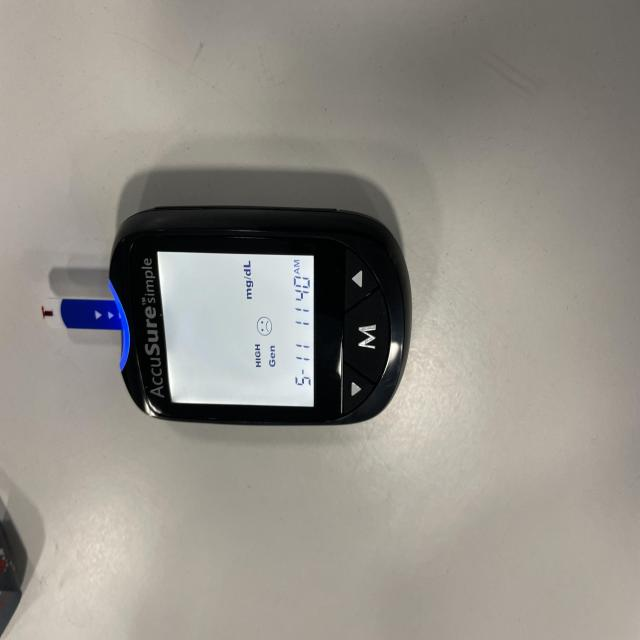gluco: (67, 134, 415, 428)
